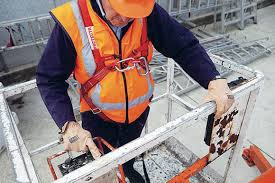high-vis: (51, 1, 151, 120)
